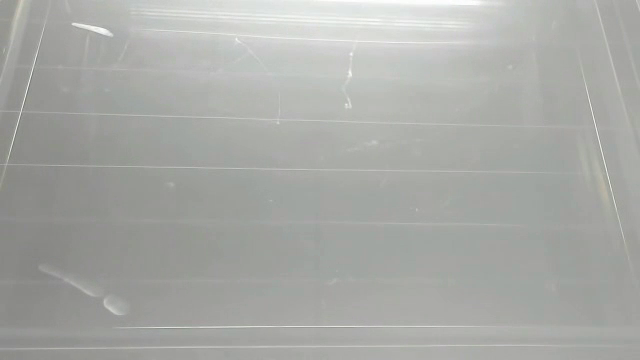alpha: (35, 257, 134, 319), (68, 18, 116, 43)
